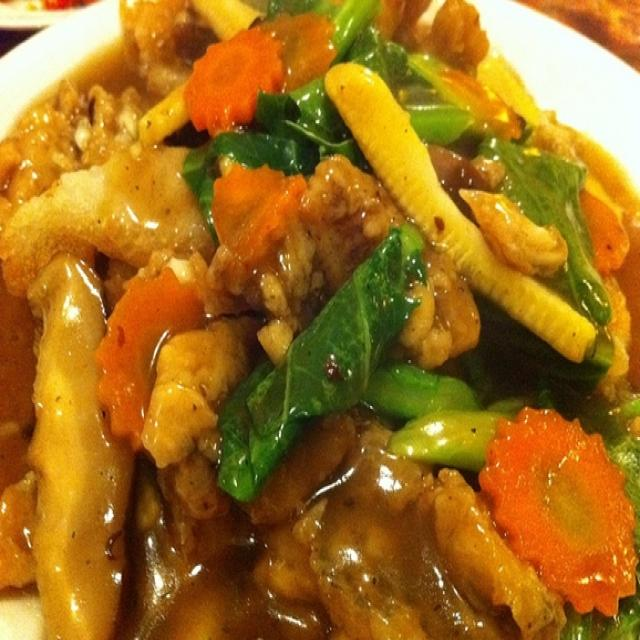面条主食: (18, 24, 626, 604)
